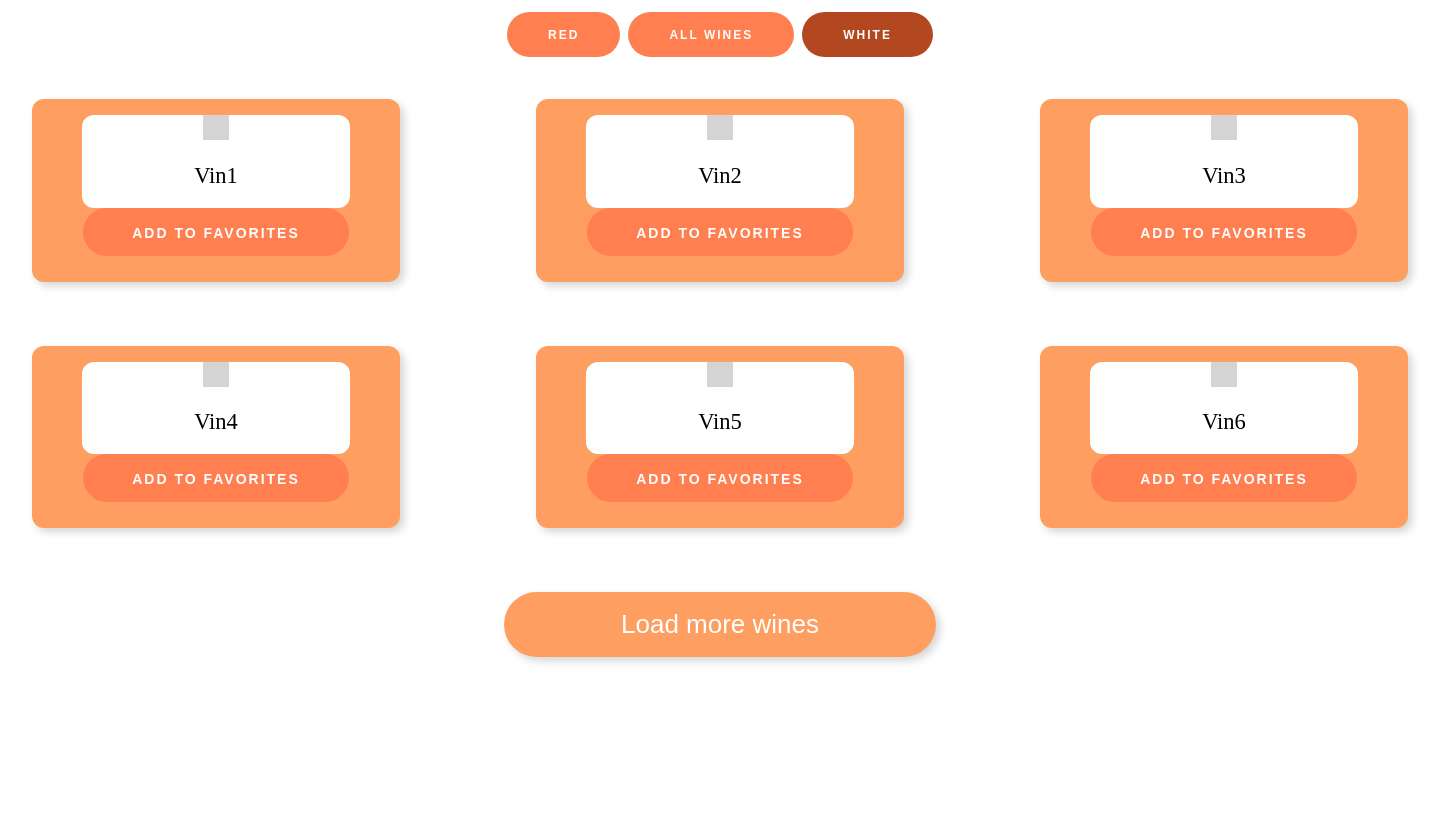
Test: renders slideshow component with filter › test that you load 6 wines at the time
Expected: the heading "Vin1" is shown, [194,163,238,189]
Expected: the heading "Vin2" is shown, [698,163,742,189]
Click the button "Load more wines" at (720, 625), box [504,592,936,657]
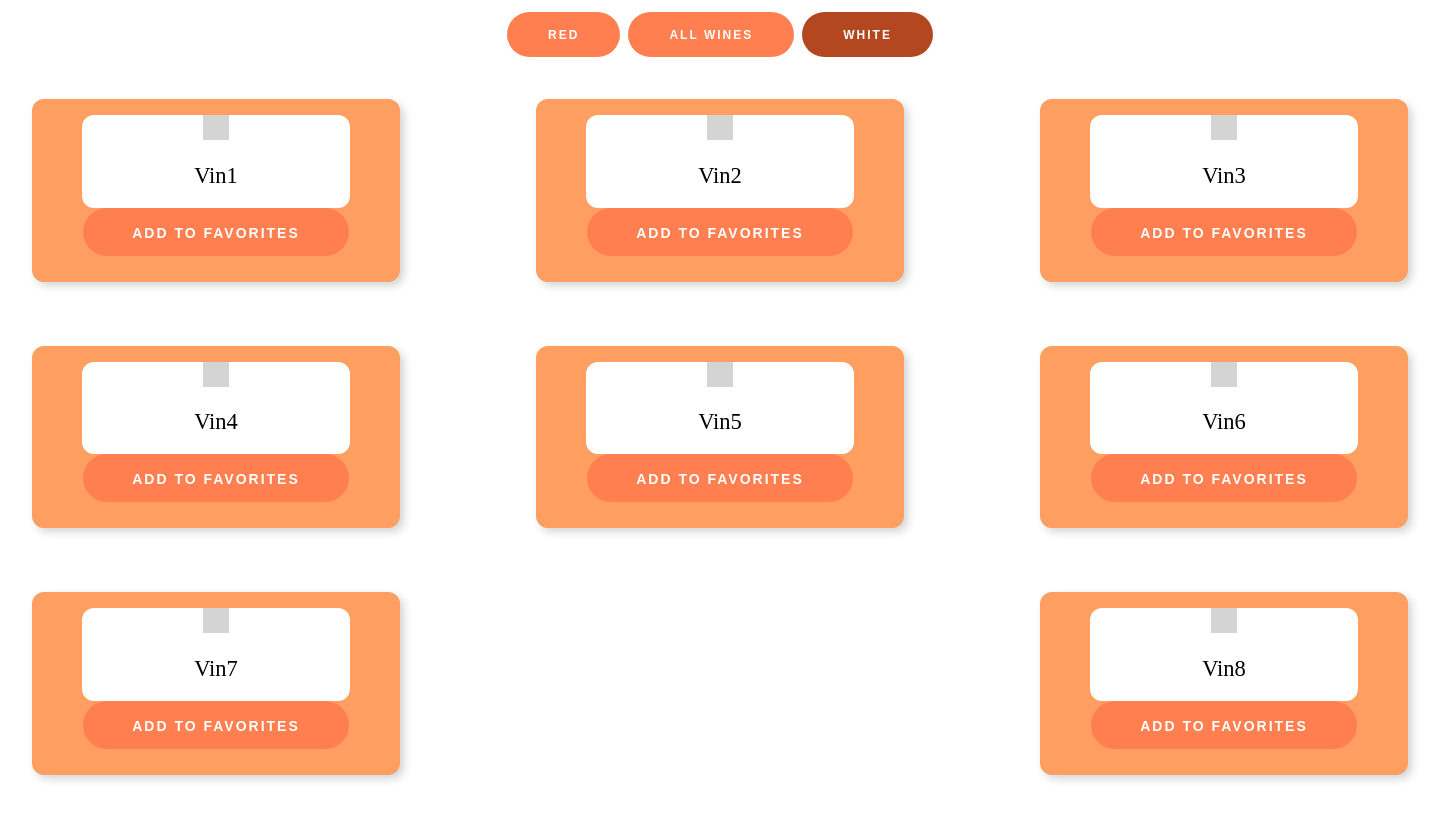
Now the heading "Vin7" is shown, box [194,656,238,682]
Now the heading "Vin8" is shown, box [1202,656,1246,682]
